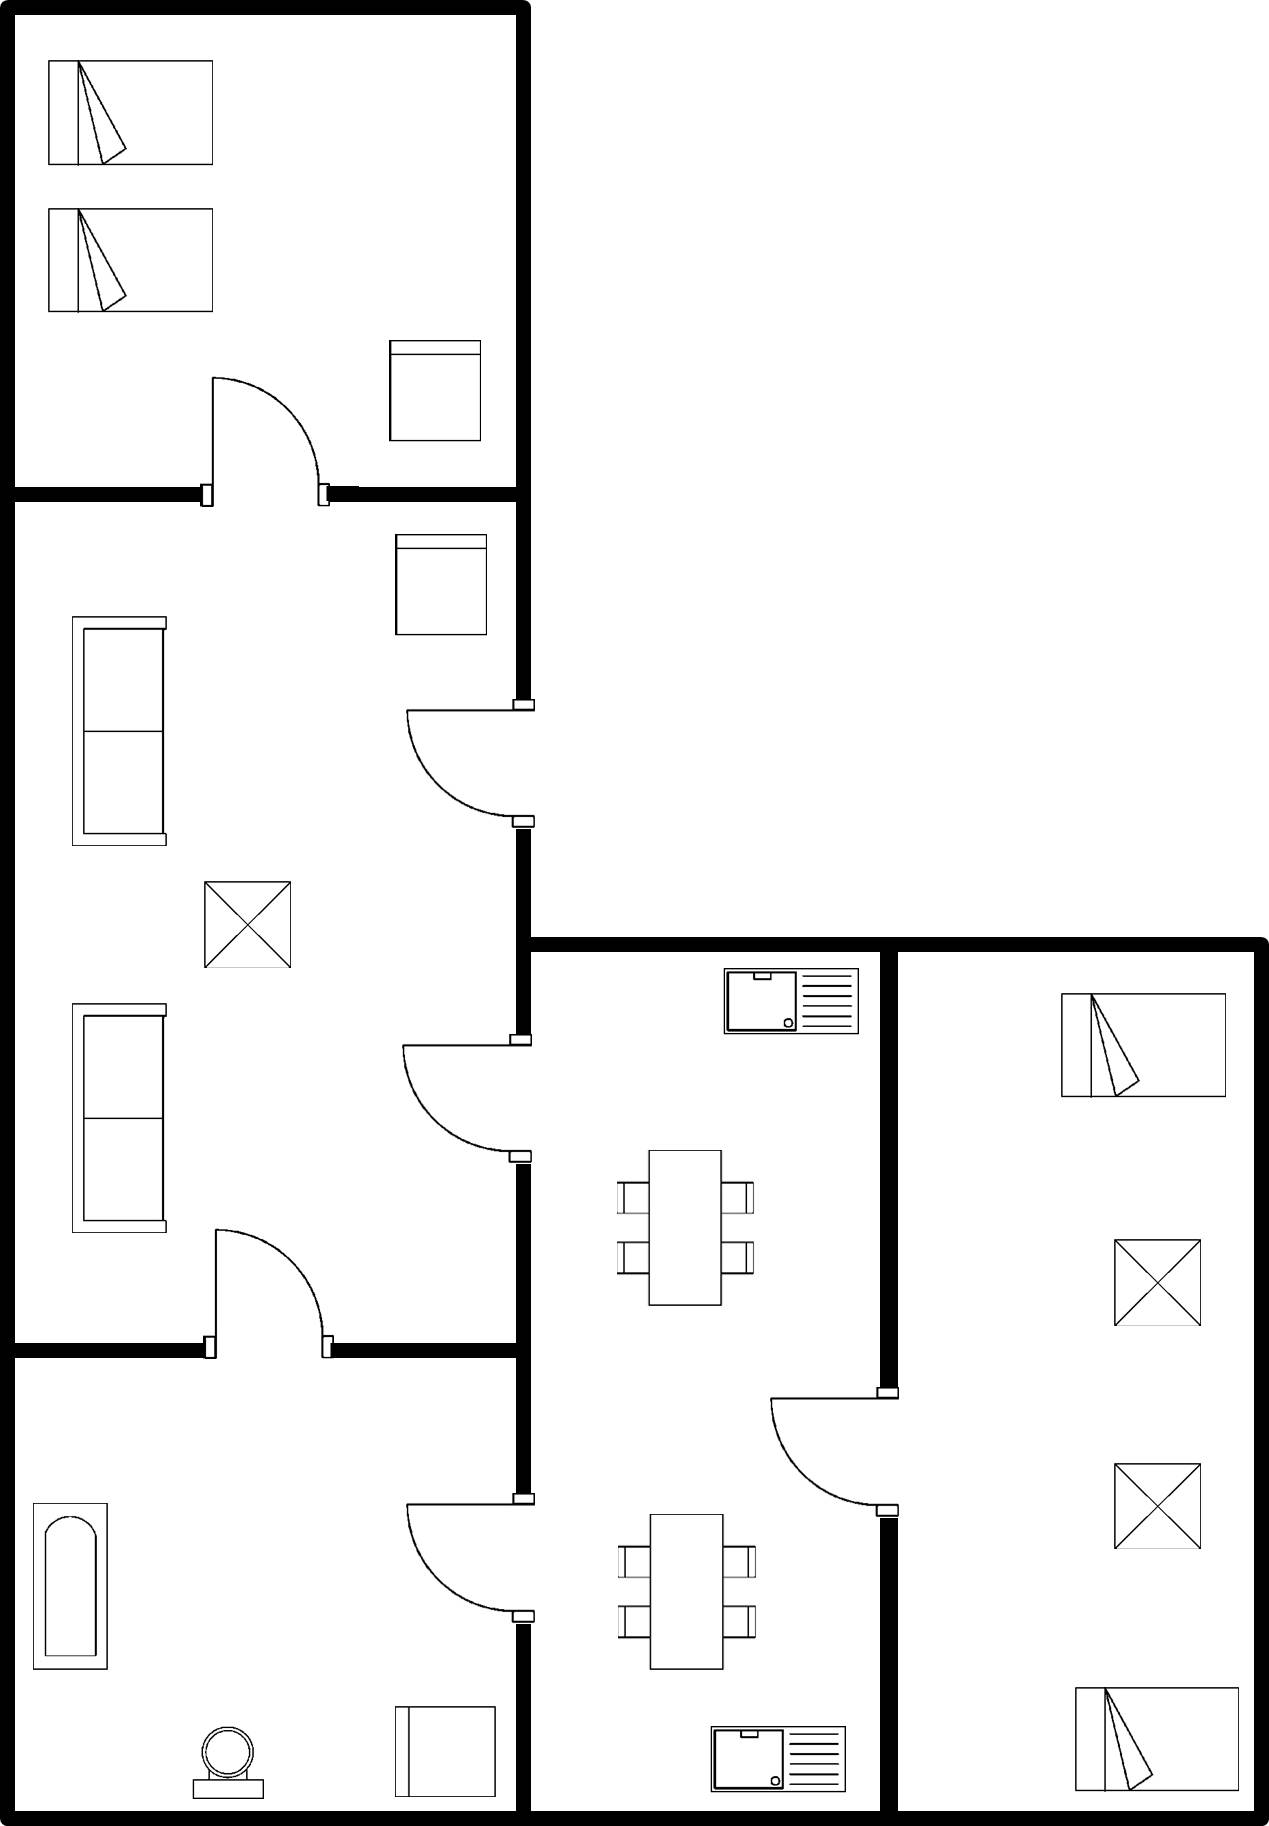bed: (1047, 977, 1234, 1116), (36, 196, 226, 328), (38, 46, 226, 178), (1054, 1675, 1245, 1798)
coffee_table: (188, 870, 306, 980), (1101, 1225, 1208, 1343), (1101, 1452, 1215, 1557)
dining_table: (611, 1503, 770, 1686), (601, 1141, 763, 1318)
large_sink: (179, 1720, 276, 1805)
large_sofa: (59, 605, 177, 864), (63, 995, 184, 1243)
sink: (713, 953, 870, 1050), (702, 1714, 863, 1802)
small_sofa: (386, 521, 502, 650), (377, 323, 493, 448), (377, 1695, 502, 1811)
tub: (24, 1491, 124, 1682)
